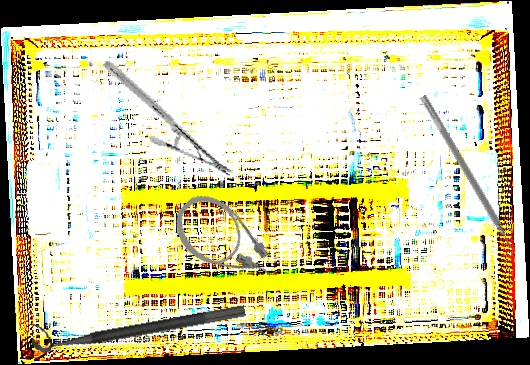Cannula: (163, 183, 285, 304)
Fixation Ring: (28, 286, 247, 356)
Needle Holder: (85, 60, 251, 177)
Spatula Surgical: (412, 94, 521, 260)
